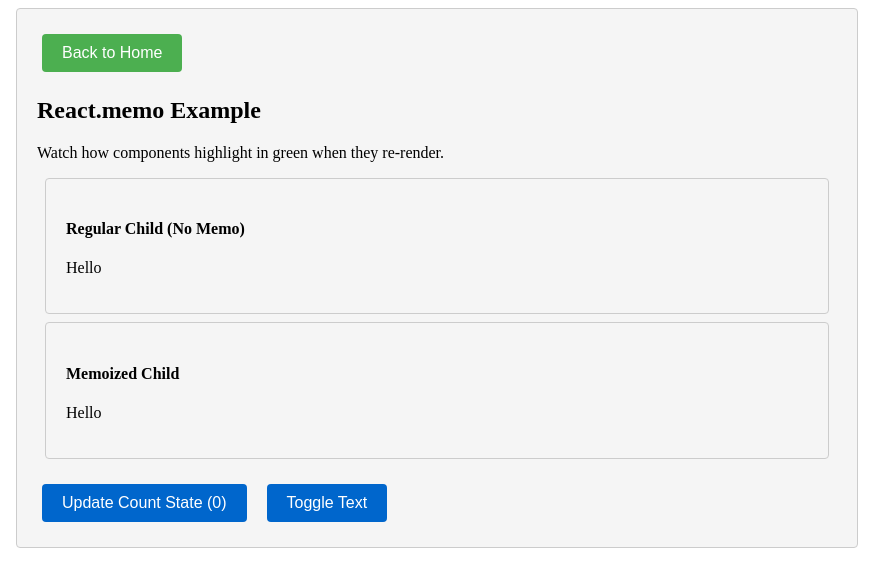
Scenario: MemoExample › toggles text when change text button is clicked
The image size is (875, 565).
Click the button "Toggle Text". click: (327, 503)
box: [266,484,387,522]
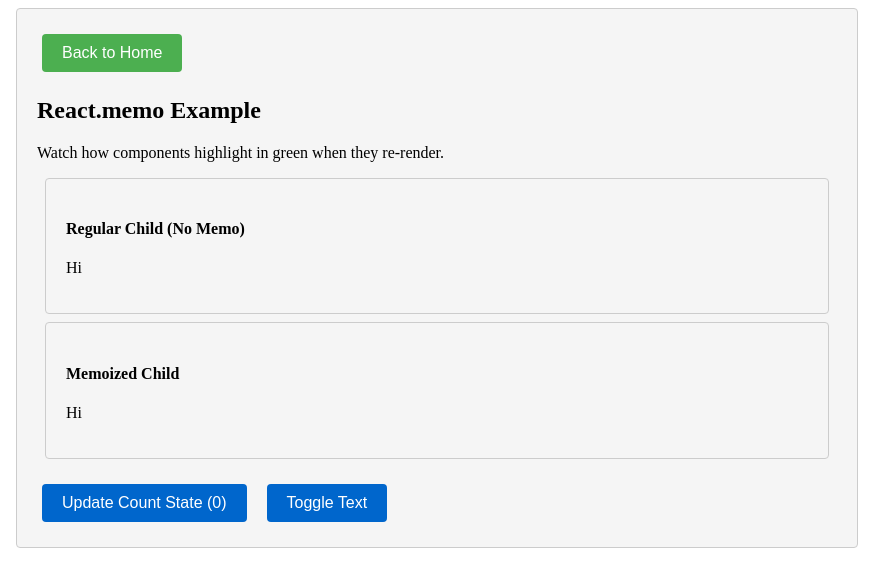
Expected: the text "Hi" below "Regular Child (No Memo)" is shown, [66,259,82,276]
Click the button "Toggle Text". click: (327, 503)
box: [266,484,387,522]
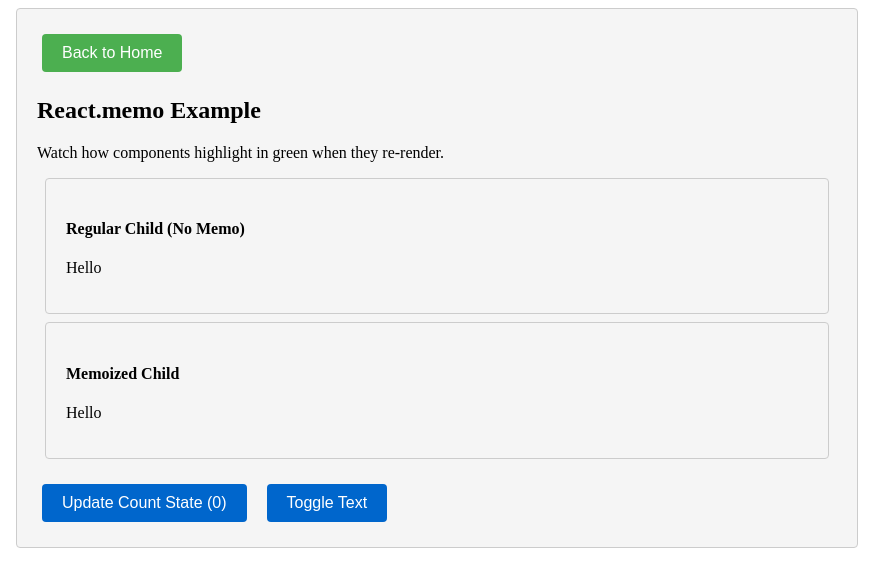
Expected: the text "Hello" below "Regular Child (No Memo)" is shown, [66,259,102,276]
